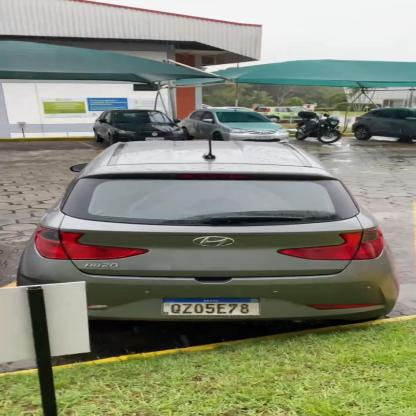Plate: (160, 295, 266, 318)
